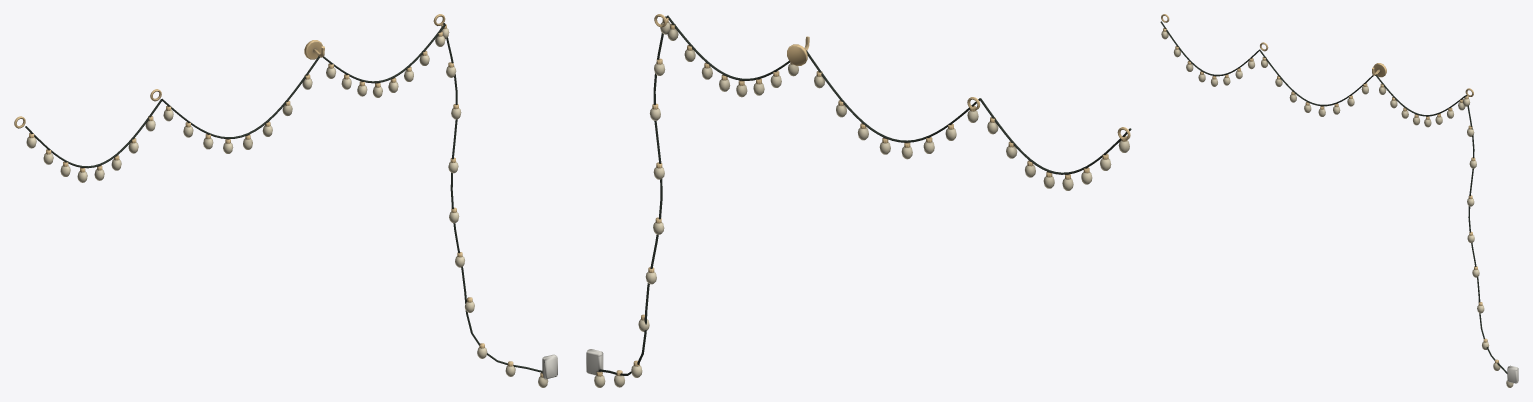
Rendered from FairyLights.fbx.
3 renders of one model, left to right at view 1: azimuth 30°, elevation 25°; view 2: azimuth 150°, elevation 25°; view 3: azimuth 330°, elevation 25°, orthographic. The views are drawn at different scales.
Parts seen in each view (by area): view 1: FairyLights_Main, FairyLights_Glow; view 2: FairyLights_Main, FairyLights_Glow; view 3: FairyLights_Main, FairyLights_Glow.
Boxes of the visible parts, x1=… form: FairyLights_Main: x1=14, y1=14, x2=557, y2=378; FairyLights_Glow: x1=26, y1=28, x2=548, y2=387; FairyLights_Main: x1=586, y1=14, x2=1131, y2=376; FairyLights_Glow: x1=594, y1=22, x2=1129, y2=387; FairyLights_Main: x1=1160, y1=14, x2=1518, y2=383; FairyLights_Glow: x1=1161, y1=31, x2=1513, y2=387.
Size of the model in its own units: 456 by 320 by 45.
